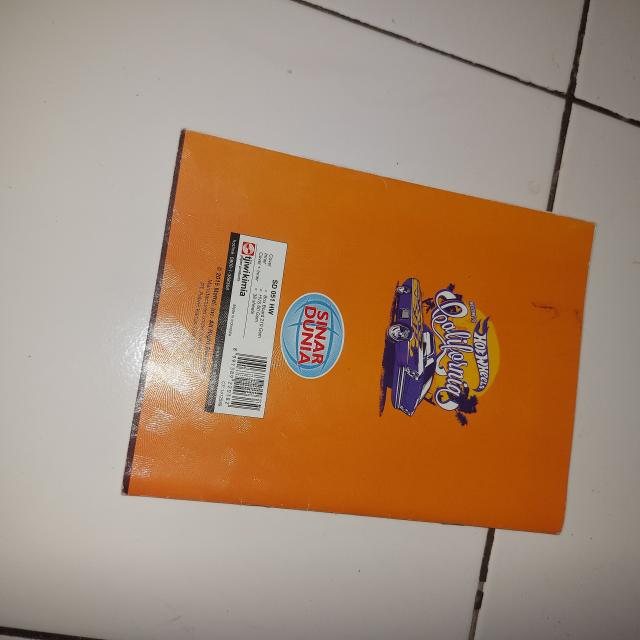Organik: (127, 130, 594, 528)
